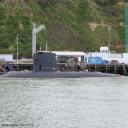submarine: (1, 54, 124, 78)
